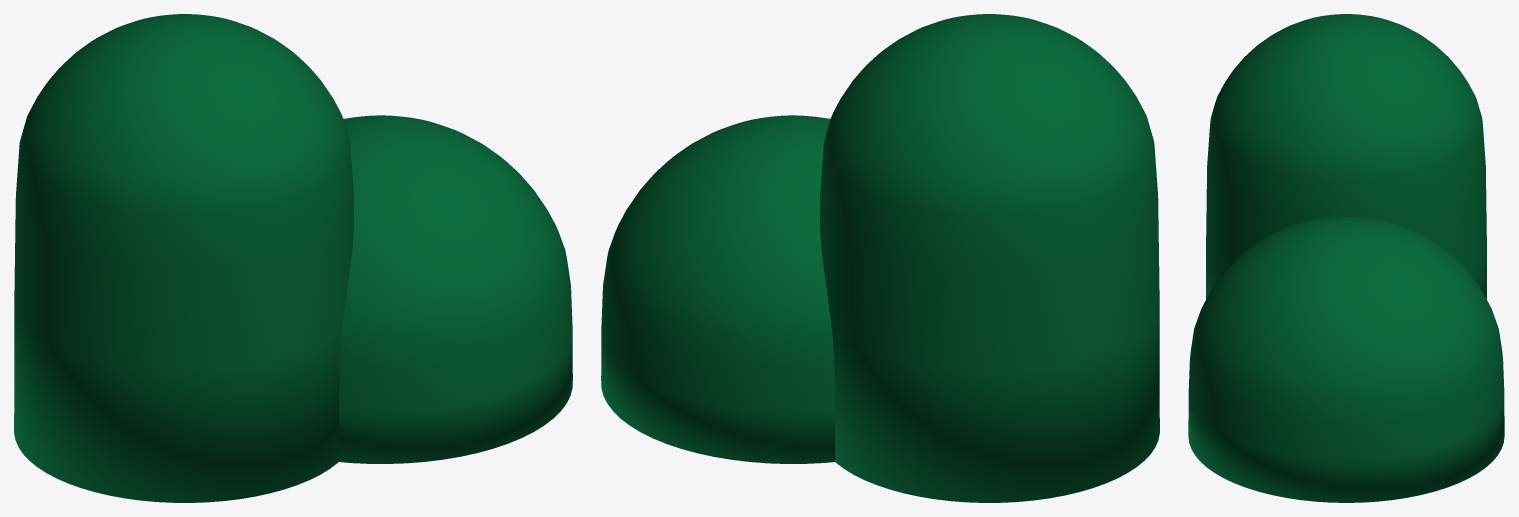
3 renders of one model, left to right at view 1: azimuth 30°, elevation 25°; view 2: azimuth 150°, elevation 25°; view 3: azimuth 270°, elevation 25°, orthographic. The views are drawn at different scales.
Visible parts, largest first — view 1: Sphere.019; view 2: Sphere.019; view 3: Sphere.019.
Boxes of the visible parts, left/top/right/bottom form: Sphere.019: left=14, top=14, right=572, bottom=502; Sphere.019: left=601, top=14, right=1159, bottom=502; Sphere.019: left=1188, top=14, right=1504, bottom=502.
Size of the model in its own units: 3.58 by 2.7 by 2.34.
